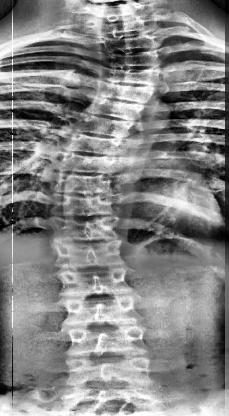Vertebrae: (63, 356, 150, 390), (65, 326, 148, 360), (58, 266, 136, 300), (63, 297, 141, 327), (50, 240, 128, 269), (49, 216, 123, 246), (49, 191, 119, 220), (62, 132, 128, 160), (93, 80, 163, 106), (83, 95, 147, 122), (55, 153, 126, 177), (74, 113, 138, 139), (96, 66, 166, 89), (86, 15, 150, 39), (52, 173, 116, 197), (100, 49, 166, 71), (93, 34, 160, 54), (83, 0, 143, 18)
